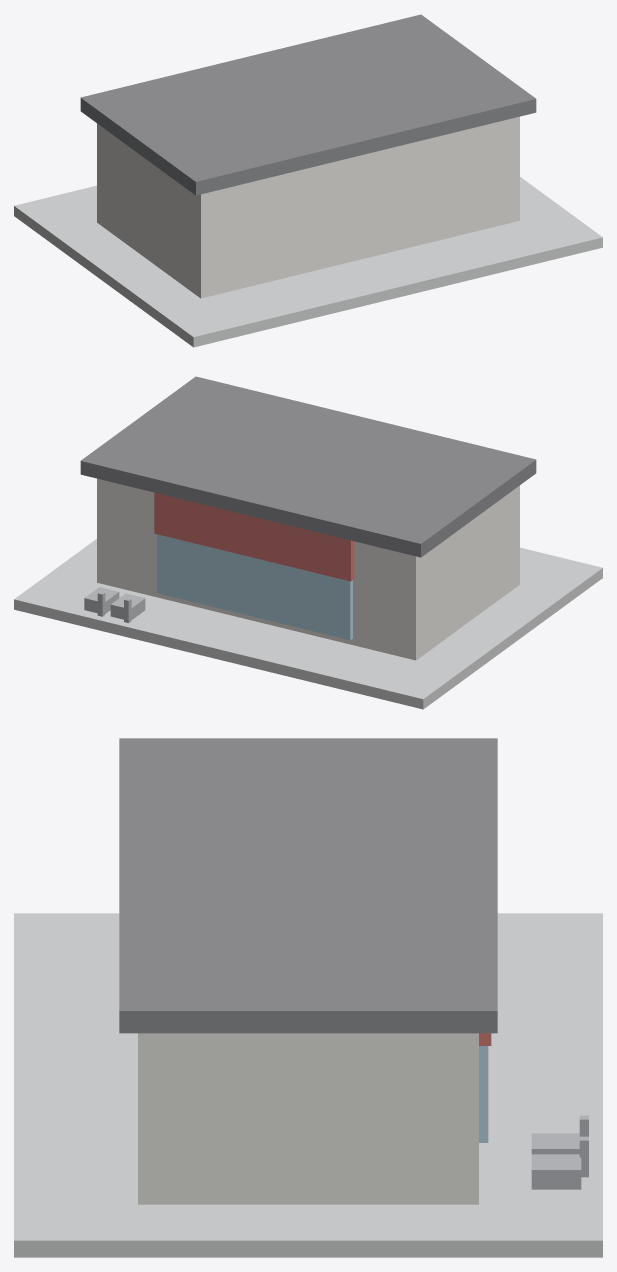
Rendered from supermarket.glb.
3 views of the same model, one above another, from view 1: azimuth 30°, elevation 25°; view 2: azimuth 150°, elevation 25°; view 3: azimuth 270°, elevation 25° (orthographic). The views are drawn at different scales.
Visible parts, largest first — view 1: roof, body, base; view 2: roof, base, body, front_glass, sign, cart_basket_0, cart_basket_1; view 3: roof, base, body, cart_basket_1, cart_basket_0, front_glass.
Boxes of the visible parts, x1=… form: roof: x1=80, y1=14, x2=536, y2=195; body: x1=97, y1=116, x2=519, y2=298; base: x1=14, y1=177, x2=602, y2=347; roof: x1=80, y1=376, x2=536, y2=557; base: x1=14, y1=539, x2=602, y2=709; body: x1=97, y1=478, x2=519, y2=660; front_glass: x1=157, y1=534, x2=352, y2=640; sign: x1=154, y1=492, x2=354, y2=581; cart_basket_0: x1=110, y1=593, x2=145, y2=619; cart_basket_1: x1=84, y1=587, x2=119, y2=613; roof: x1=119, y1=738, x2=497, y2=1033; base: x1=14, y1=913, x2=602, y2=1257; body: x1=138, y1=1033, x2=478, y2=1204; cart_basket_1: x1=531, y1=1154, x2=581, y2=1189; cart_basket_0: x1=531, y1=1133, x2=579, y2=1154; front_glass: x1=479, y1=1046, x2=488, y2=1142.
Bounding box in the file's own units: 2.5 × 0.78 × 1.9.
